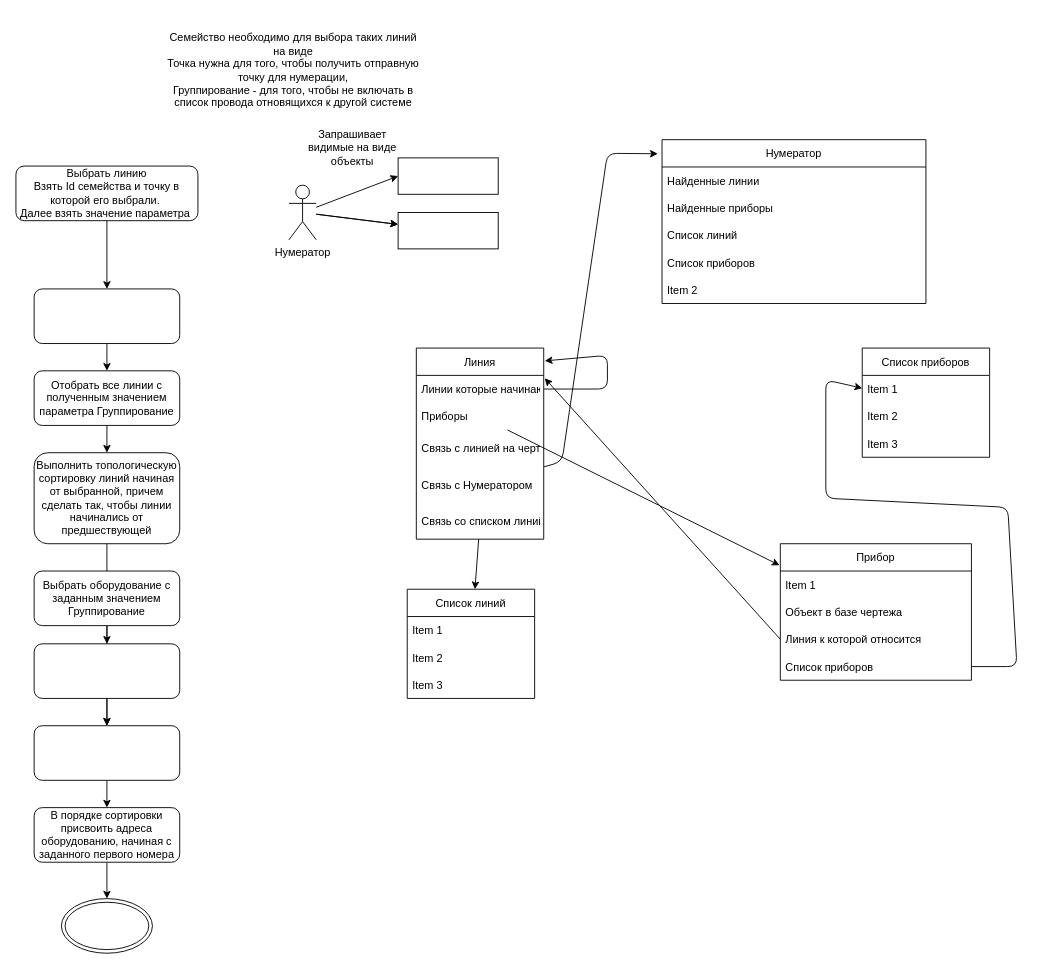
Image size: 1040x969. Some labels were removed from this diagram. The centre of each missing label's shape, as x and y in pixels:
"Взрять значение параметра ADSK_Группирование" goes at (x=106, y=316).
"Вид" goes at (x=447, y=230).
"Выполнить топологическую сортировку оборудования" goes at (x=106, y=752).
"Документ" goes at (x=447, y=175).
"Привязать оборудование к ближайшей линии и отсортировать их от начала линии" goes at (x=106, y=670).
